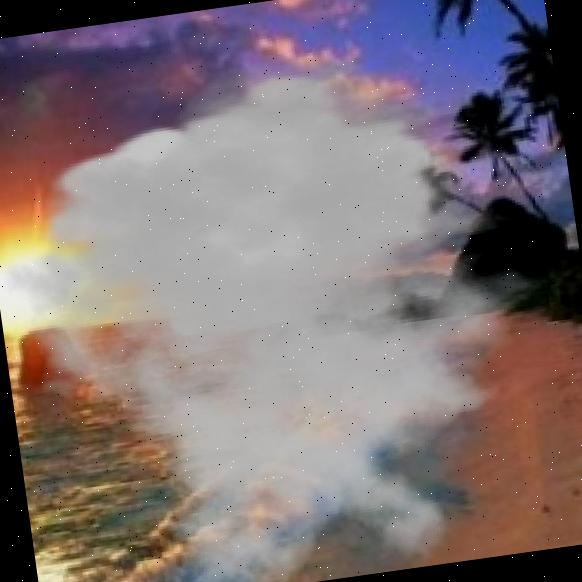smoke: (0, 21, 582, 582)
